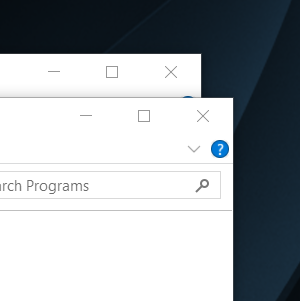close: (154, 58, 186, 84), (188, 102, 218, 129)
